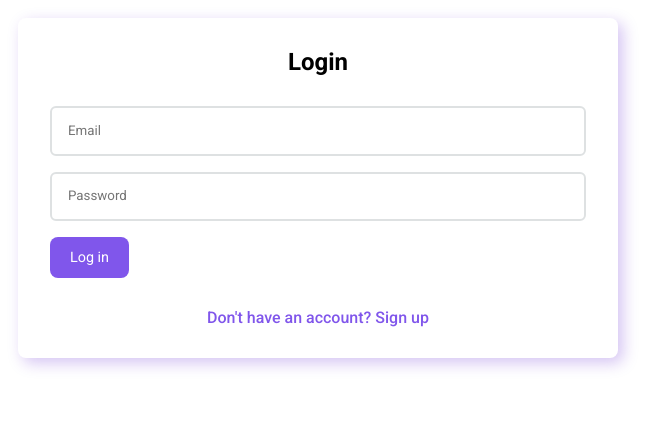
LoginForm Component › shows validation errors for empty fields
Click the button "Log in".
click(90, 258)  # box [50,237,129,278]
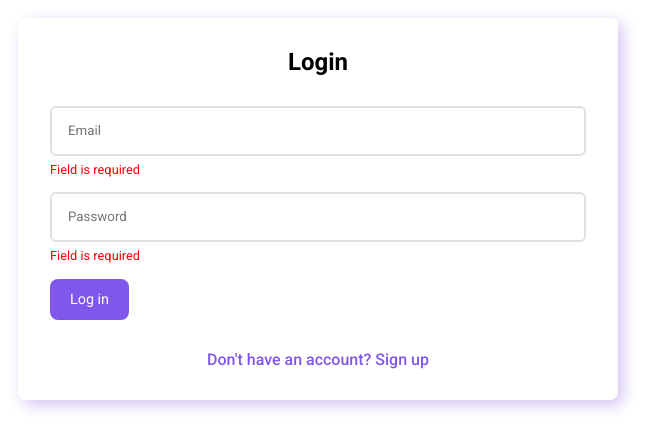
Result: the text "Field is required" is shown 2 times at [50,162,140,177]; [50,248,140,263]
